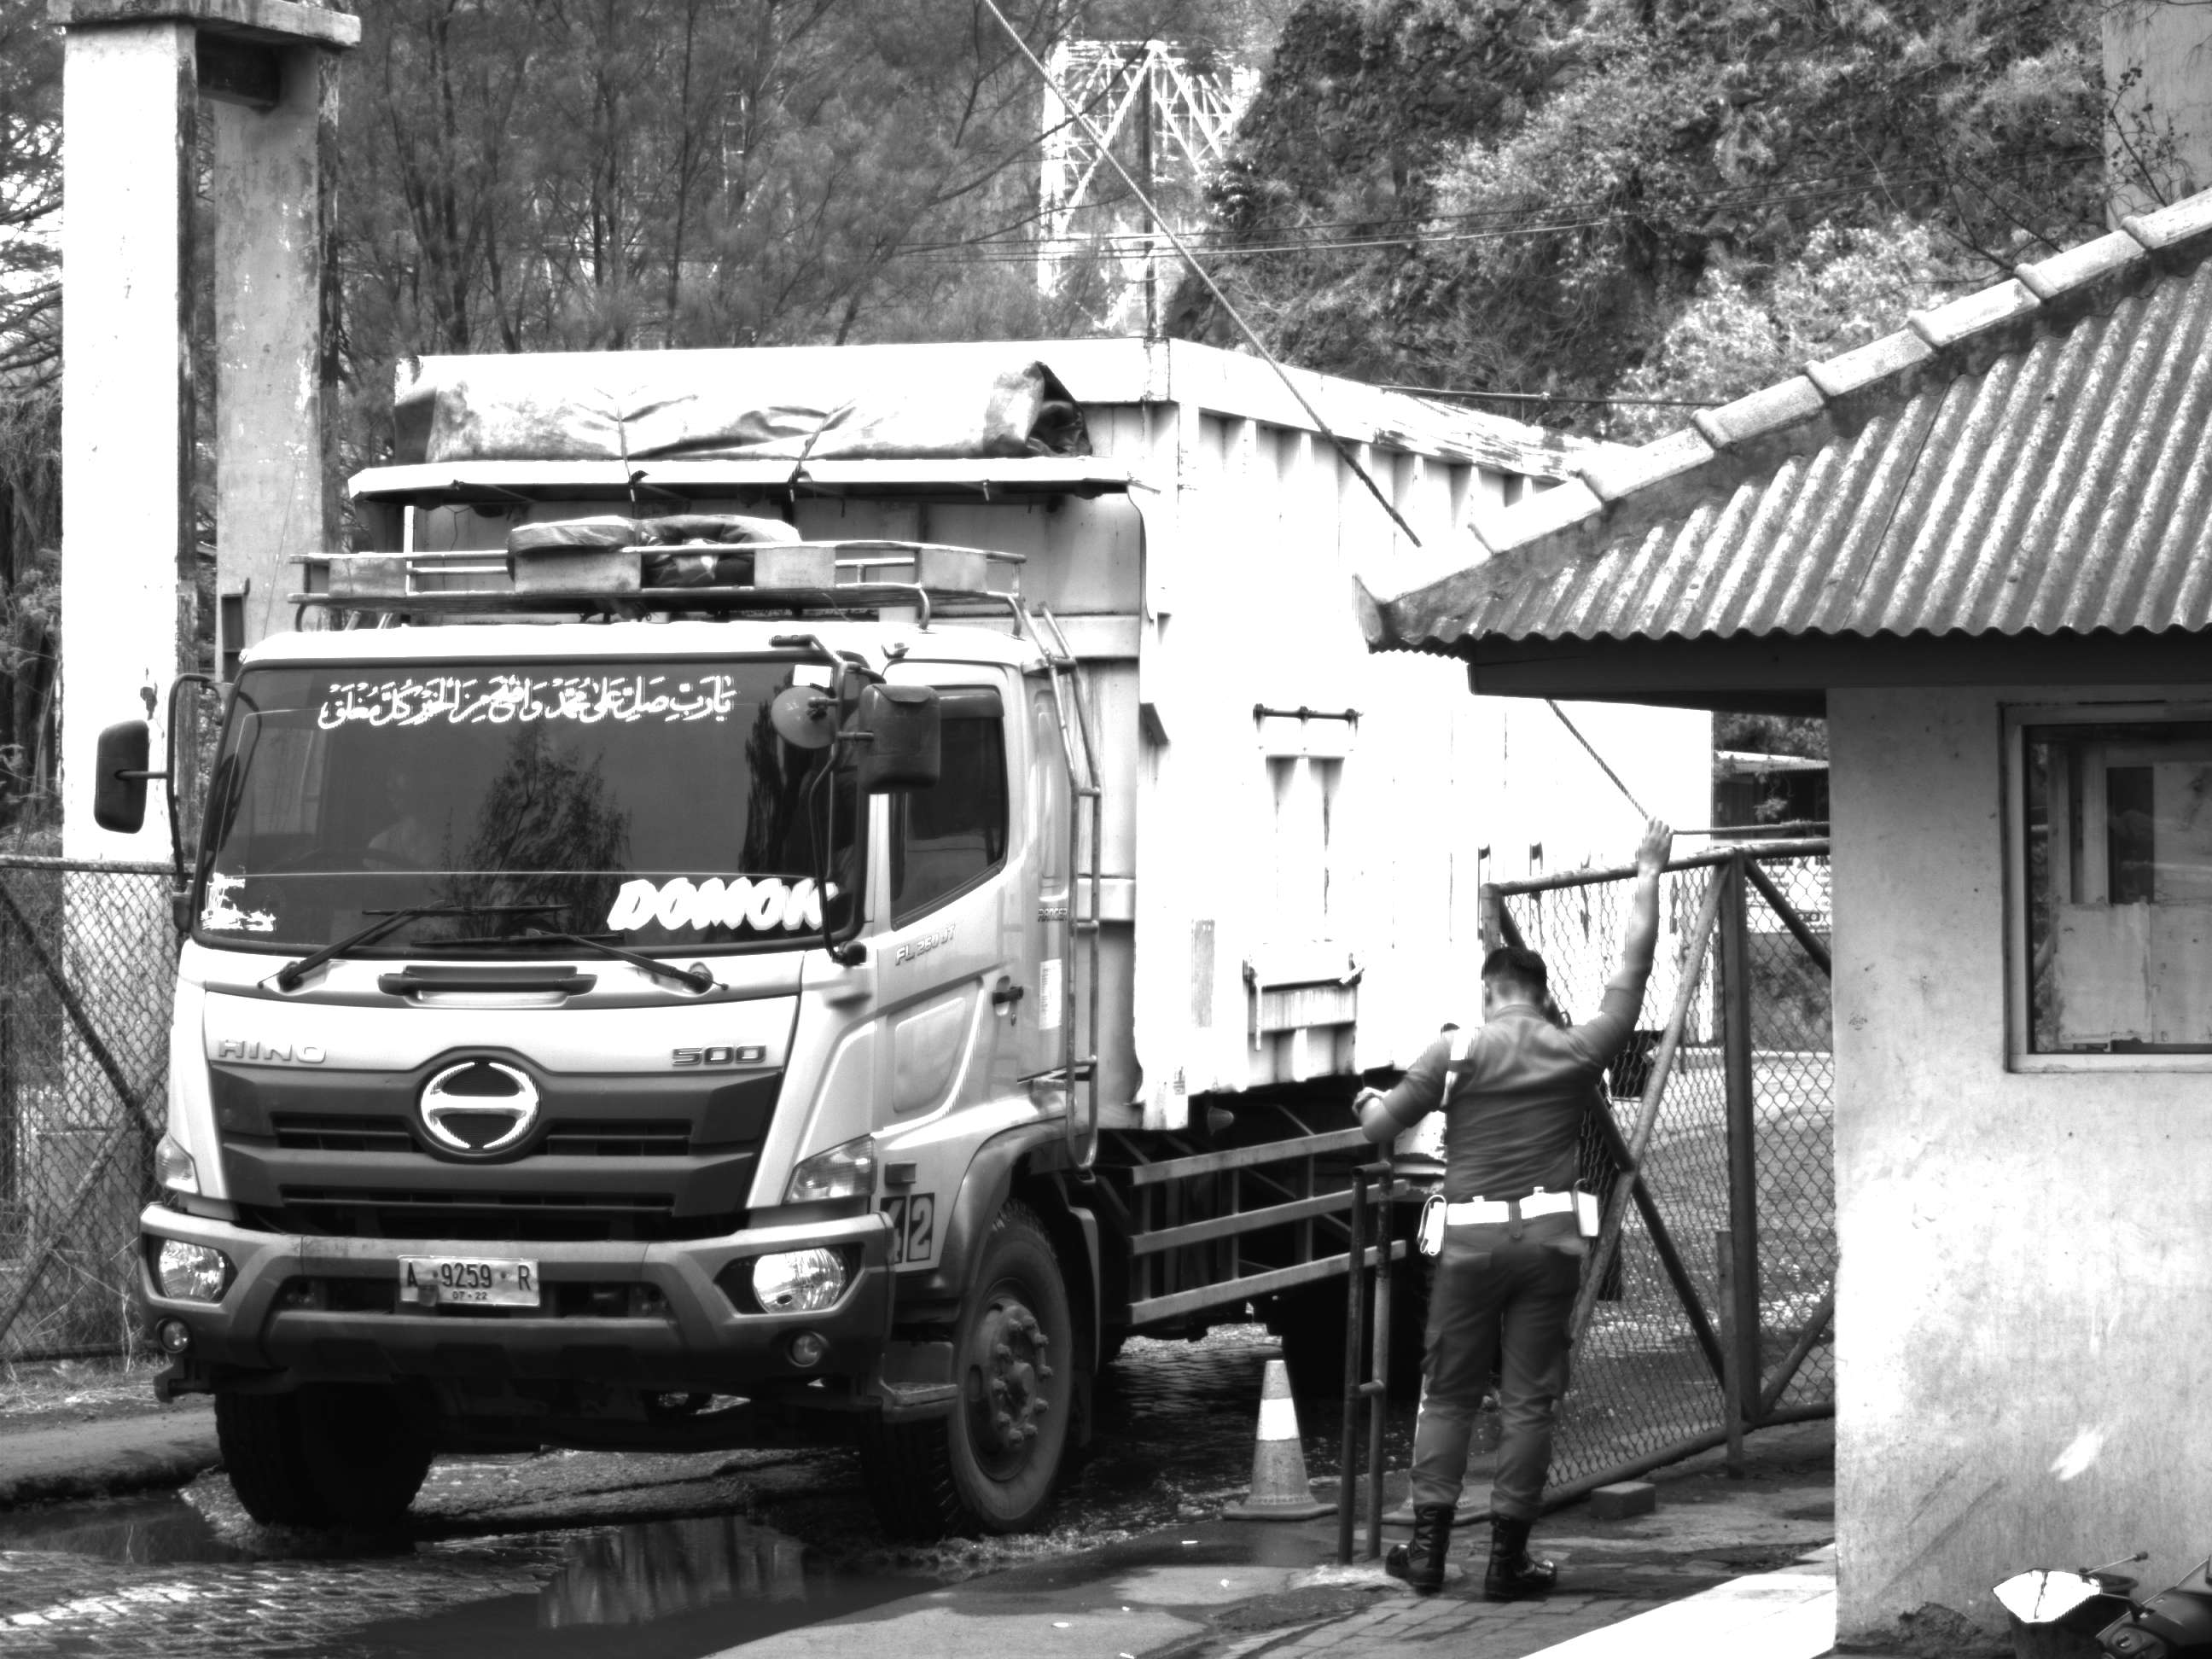day_truck_front: (80, 628, 1078, 1538)
plate: (397, 1250, 553, 1323)
